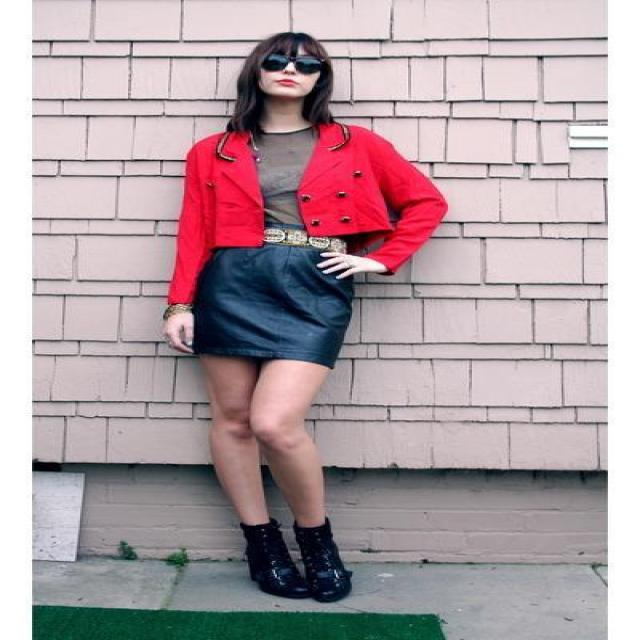jacket: (135, 123, 458, 319)
shirt: (252, 131, 322, 244)
shoe: (240, 517, 350, 602)
skirt: (173, 241, 363, 370)
